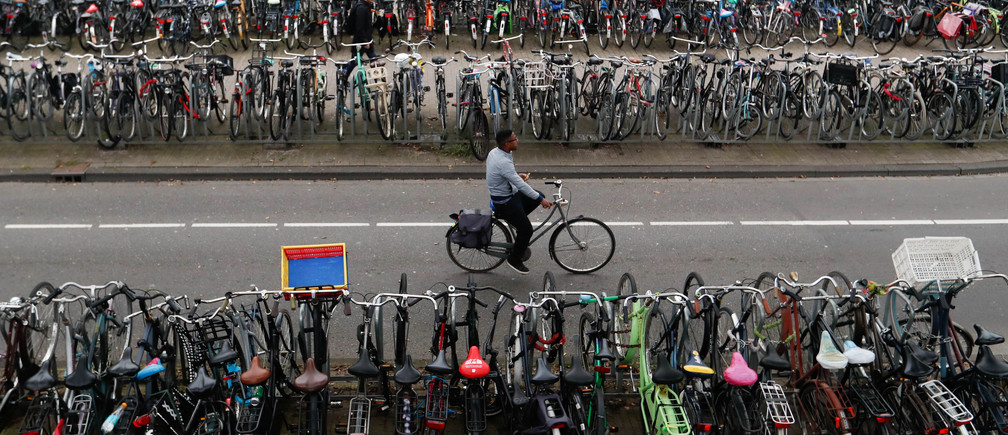commuter: (447, 130, 616, 282)
